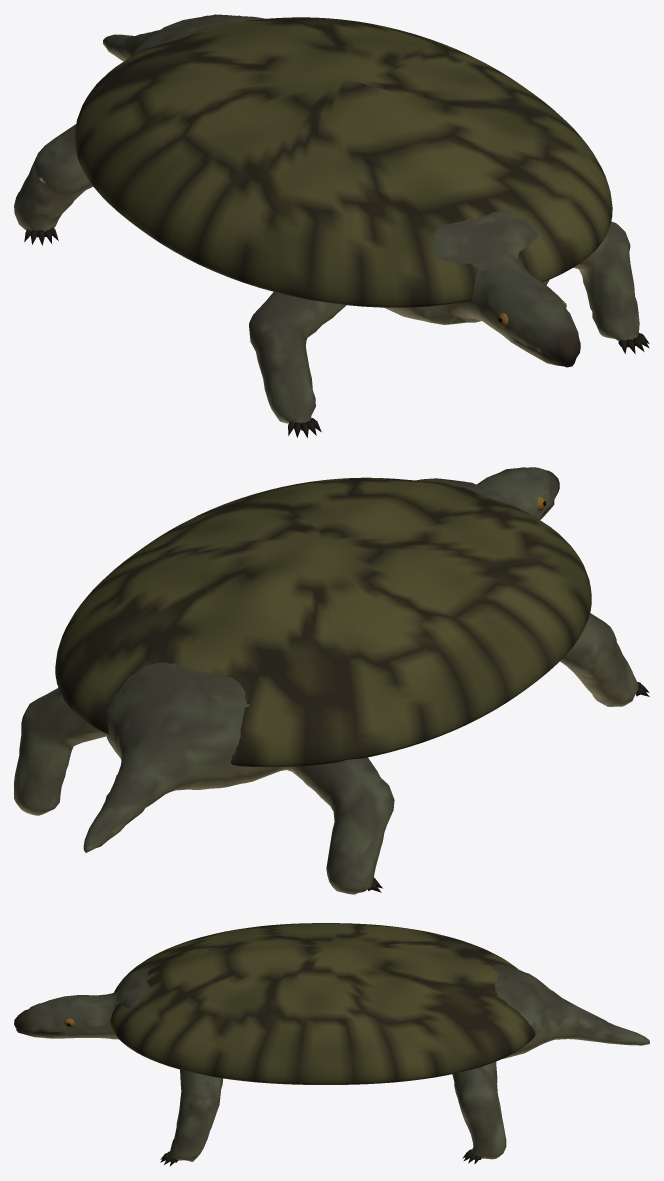
The model's file is Kayentachelys.fbx.
3 views of the same model, one above another, from view 1: azimuth 30°, elevation 25°; view 2: azimuth 150°, elevation 25°; view 3: azimuth 270°, elevation 25° (orthographic). The views are drawn at different scales.
Parts seen in each view (by area): view 1: Kayentachelys; view 2: Kayentachelys; view 3: Kayentachelys.
Boxes of the visible parts, bbox=[...] form: Kayentachelys: bbox=[14, 14, 649, 437]; Kayentachelys: bbox=[14, 467, 649, 894]; Kayentachelys: bbox=[14, 923, 649, 1166].
Size of the model in its own units: 0.82 by 0.4315 by 1.61.
